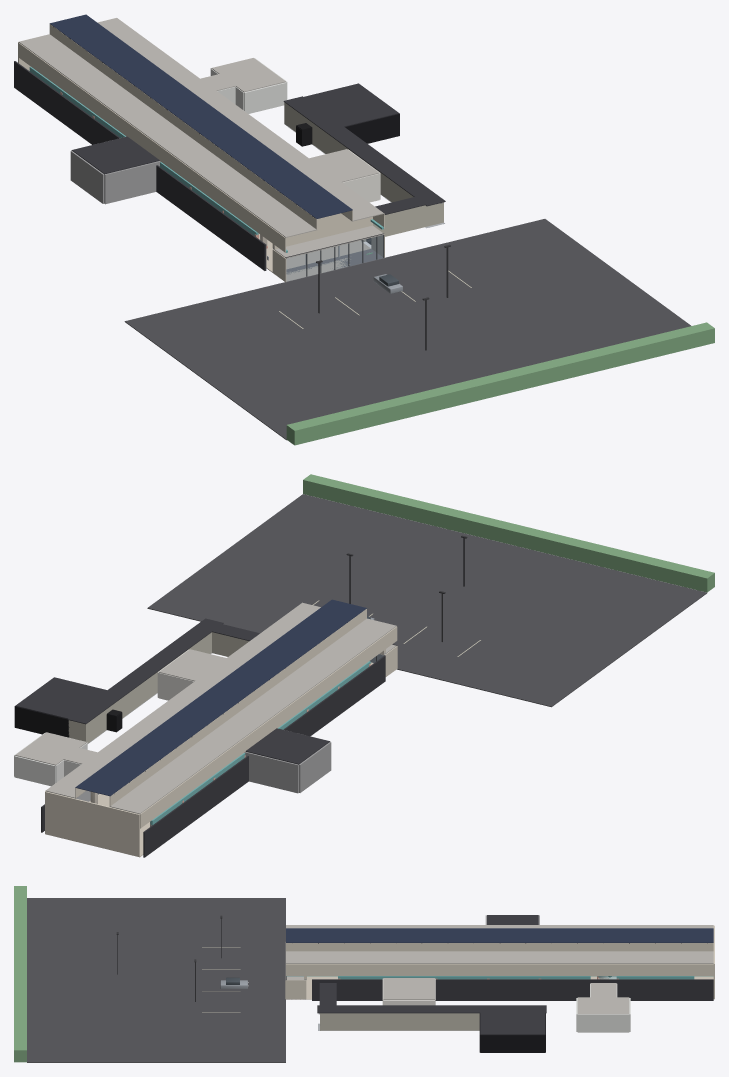
The model's file is mall.glb.
The picture shows the model from 3 angles, top to bottom: view 1: azimuth 30°, elevation 25°; view 2: azimuth 150°, elevation 25°; view 3: azimuth 270°, elevation 25°; orthographic projection. The views are drawn at different scales.
Visible parts, largest first — view 1: exterior, CEIL_mall, mall, CEIL_service, service; view 2: exterior, CEIL_mall, mall, CEIL_service, service; view 3: exterior, CEIL_mall, mall, service, CEIL_service.
Part boxes in pixels (x1=…): exterior: x1=124, y1=219, x2=714, y2=445; CEIL_mall: x1=19, y1=14, x2=384, y2=258; mall: x1=14, y1=41, x2=384, y2=282; CEIL_service: x1=283, y1=83, x2=445, y2=214; service: x1=284, y1=102, x2=444, y2=241; exterior: x1=147, y1=474, x2=714, y2=707; CEIL_mall: x1=15, y1=599, x2=396, y2=814; mall: x1=14, y1=626, x2=397, y2=857; CEIL_service: x1=15, y1=618, x2=259, y2=724; service: x1=14, y1=632, x2=248, y2=743; exterior: x1=14, y1=886, x2=285, y2=1062; CEIL_mall: x1=285, y1=915, x2=713, y2=1014; mall: x1=285, y1=915, x2=714, y2=1032; service: x1=318, y1=1013, x2=545, y2=1052; CEIL_service: x1=317, y1=983, x2=546, y2=1034.
Bounding box in the file's own units: 60 × 7.69 × 108.
